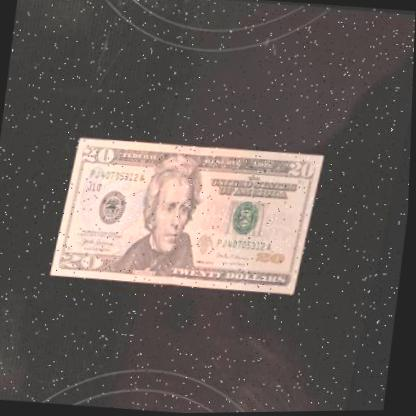dollar_front: (56, 132, 331, 300)
